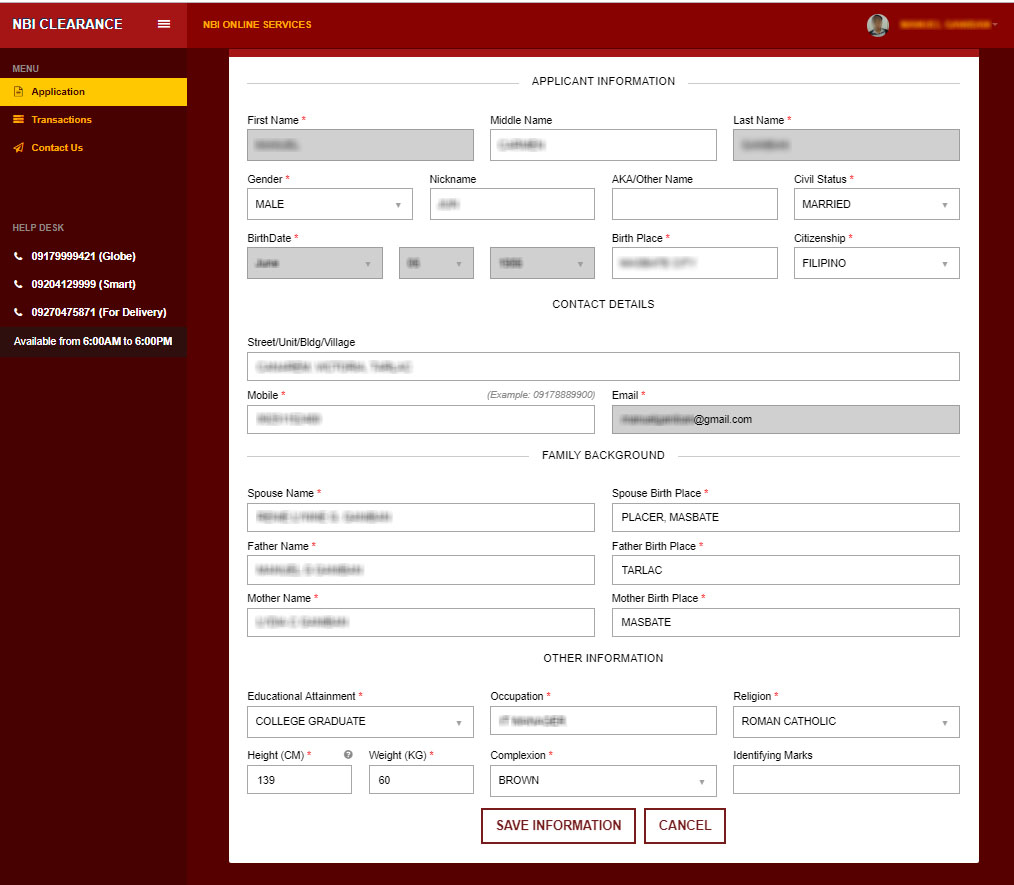button: (475, 808, 640, 845), (640, 803, 731, 849)
dropdown: (244, 679, 481, 748), (729, 685, 964, 742), (491, 747, 723, 799)
textbox: (366, 760, 480, 803)
